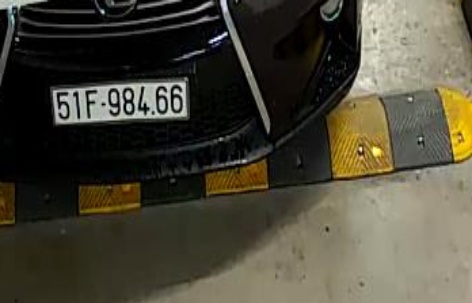plate: (46, 80, 195, 126)
